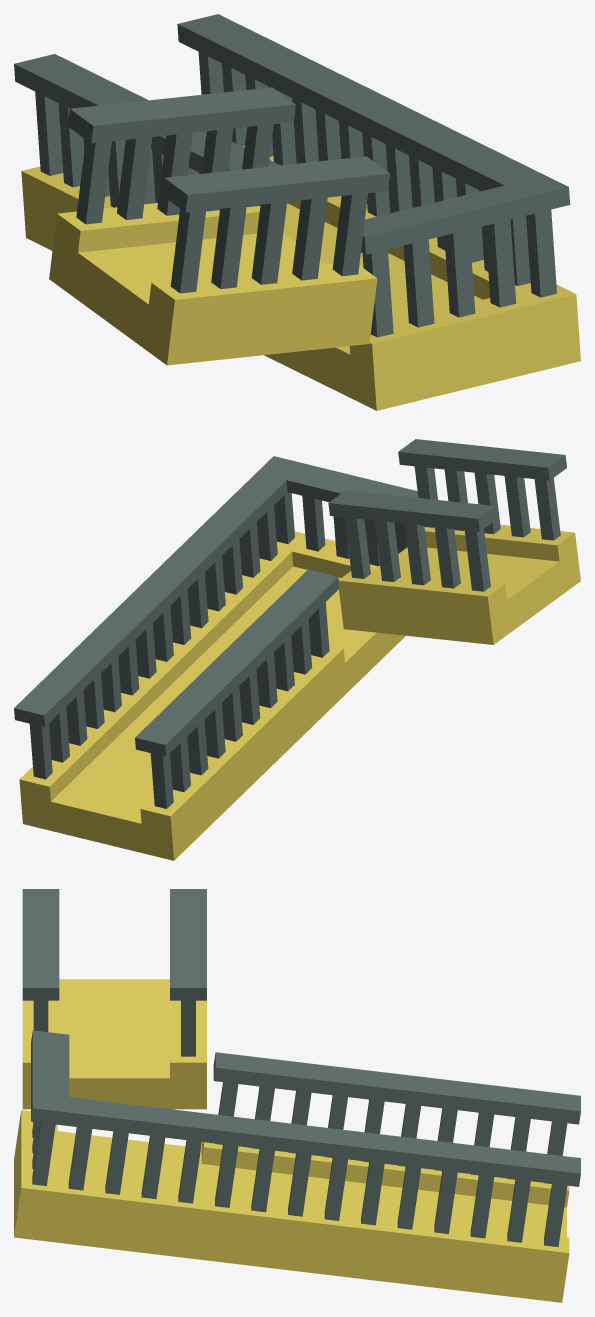
The model's file is RampMesh.fbx.
3 renders of one model, top to bottom at view 1: azimuth 30°, elevation 25°; view 2: azimuth 150°, elevation 25°; view 3: azimuth 270°, elevation 25°, orthographic. The views are drawn at different scales.
Visible parts, largest first — view 1: RampMesh; view 2: RampMesh; view 3: RampMesh.
Boxes of the visible parts, x1,y1,x2,y2 form: RampMesh: [14, 14, 580, 410]; RampMesh: [14, 439, 580, 860]; RampMesh: [14, 889, 580, 1302].
Bounding box in the file's own units: 5 × 3.98 × 7.69.
